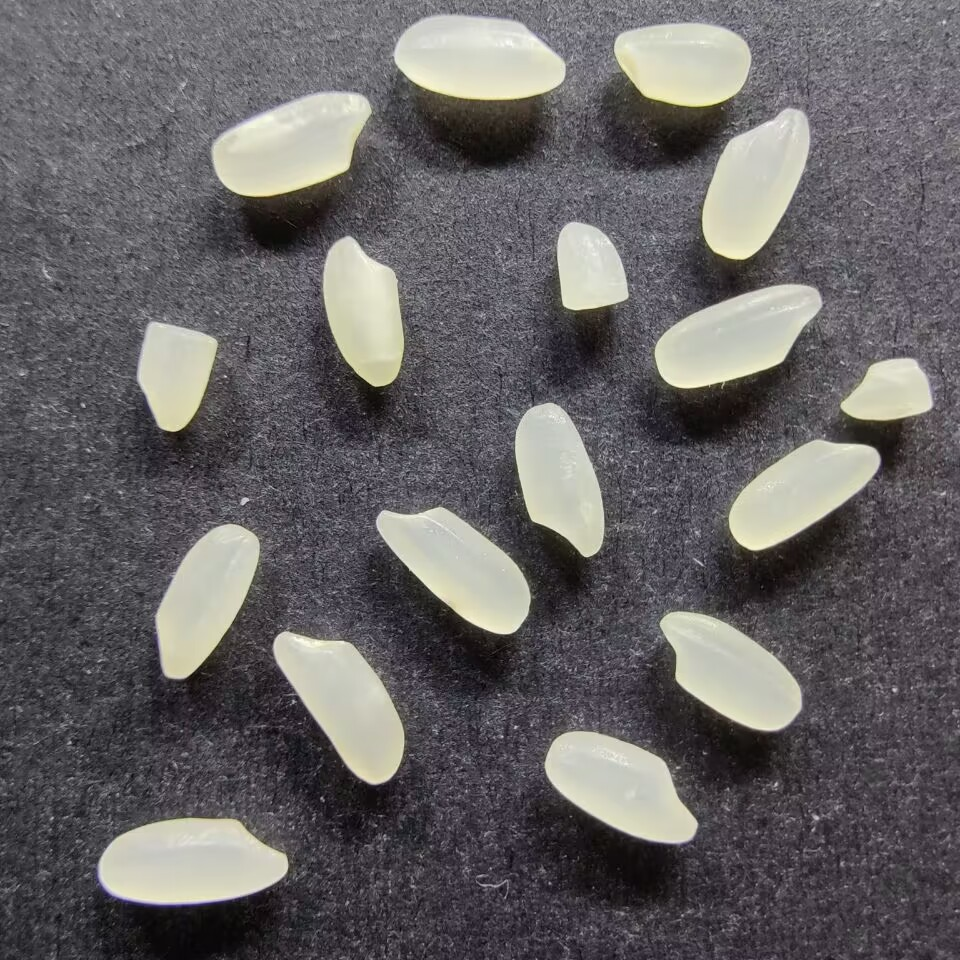broken: (134, 318, 218, 436), (553, 219, 633, 312), (839, 357, 935, 424)
rice: (268, 629, 411, 788), (373, 503, 533, 638), (652, 282, 825, 390), (658, 609, 806, 735), (544, 729, 702, 845), (728, 436, 883, 553), (209, 87, 372, 198), (95, 816, 291, 906), (153, 520, 260, 682), (699, 104, 810, 260), (391, 13, 571, 102), (513, 400, 608, 560), (322, 234, 409, 388), (612, 22, 753, 108)
